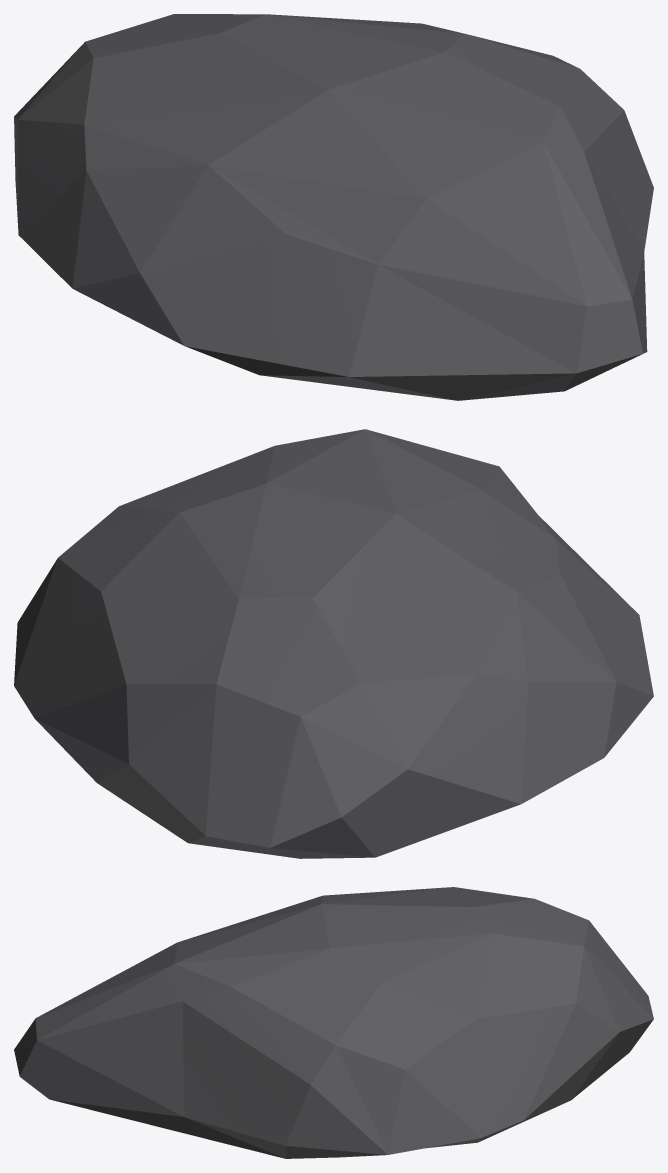
The model's file is Piedra_03.glb.
3 renders of one model, top to bottom at view 1: azimuth 30°, elevation 25°; view 2: azimuth 150°, elevation 25°; view 3: azimuth 270°, elevation 25°, orthographic. The views are drawn at different scales.
Parts seen in each view (by area): view 1: SM_Env_Rock_04_1; view 2: SM_Env_Rock_04_1; view 3: SM_Env_Rock_04_1.
Boxes of the visible parts, x1=… form: SM_Env_Rock_04_1: x1=14, y1=14, x2=653, y2=400; SM_Env_Rock_04_1: x1=14, y1=429, x2=653, y2=858; SM_Env_Rock_04_1: x1=14, y1=887, x2=653, y2=1158.
Bounding box in the file's own units: 1.39 × 0.513 × 1.74.
Materials: 1 (1 with a texture image).
